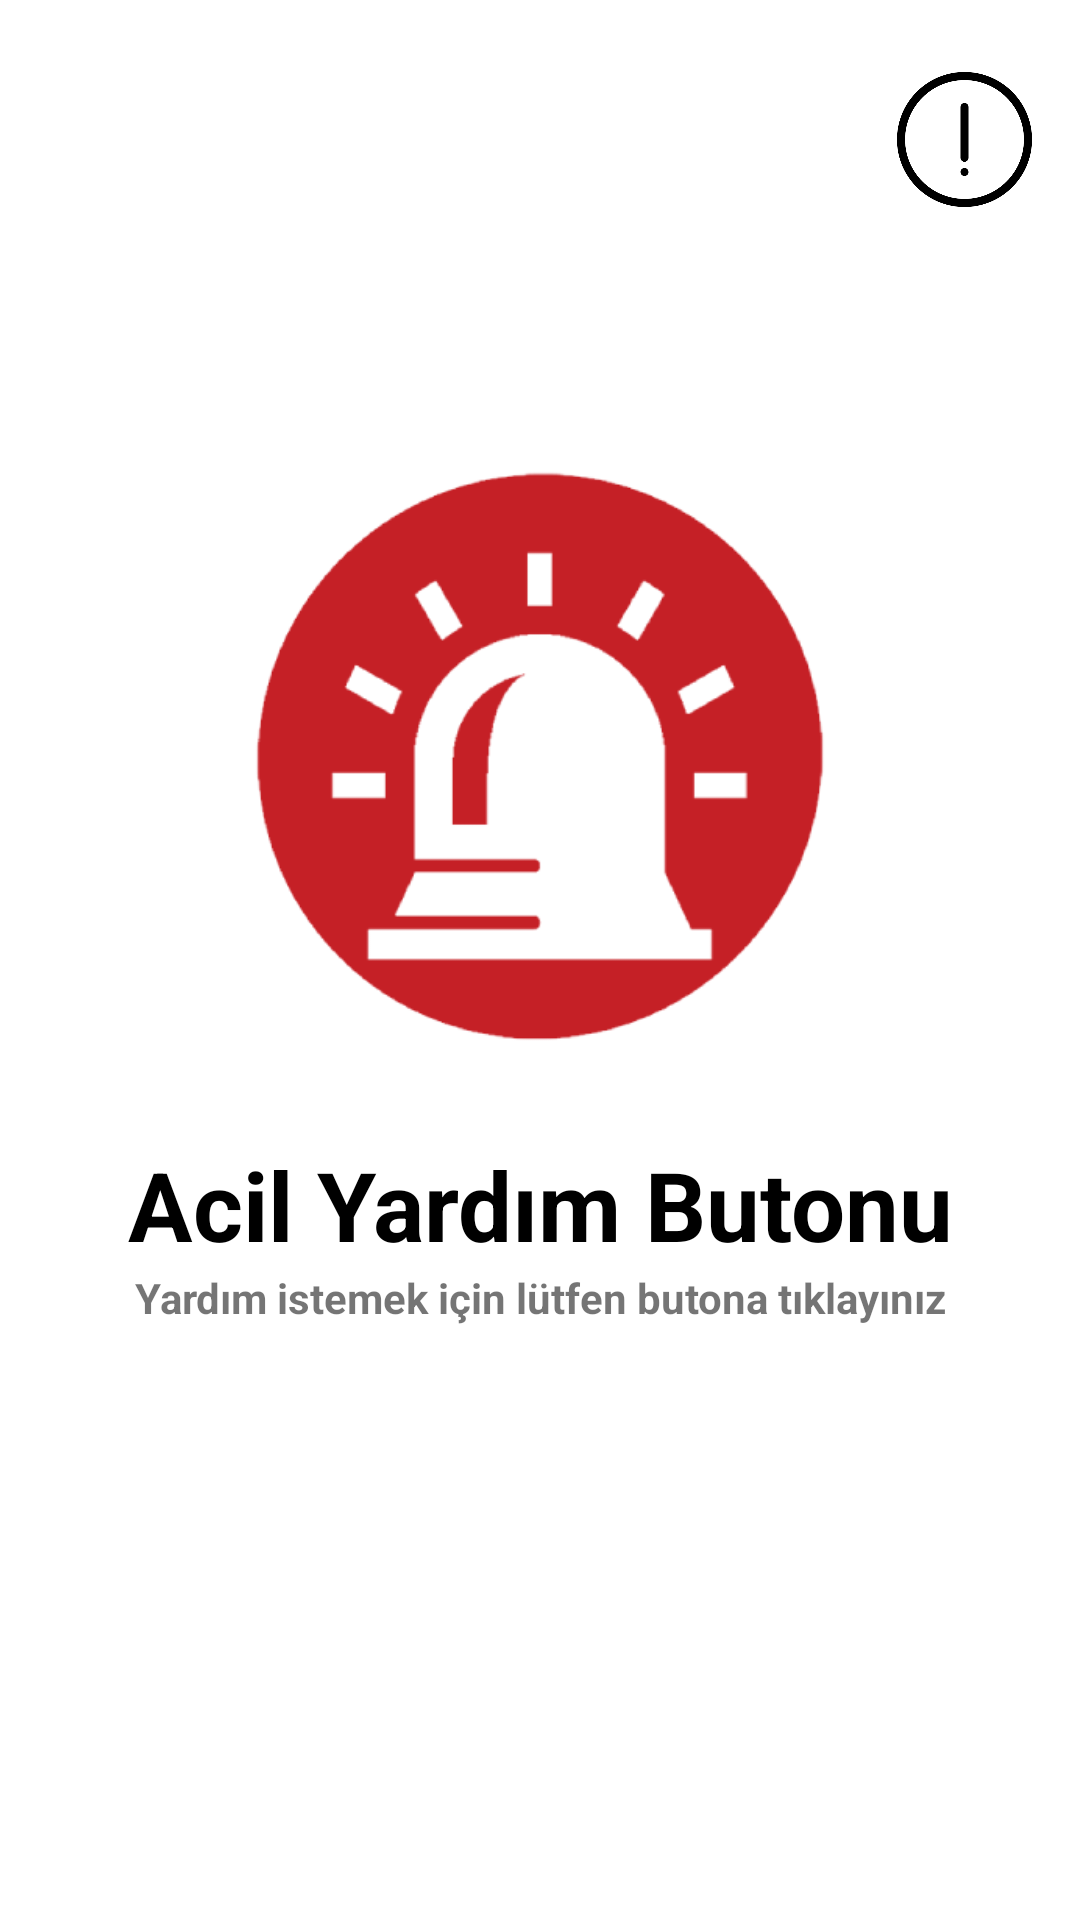

Where to tap for icons on this 1080*1920 app screen, as point (x, y):
information: point (964, 139)
